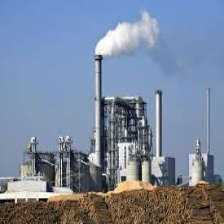smoke: (90, 11, 158, 55)
